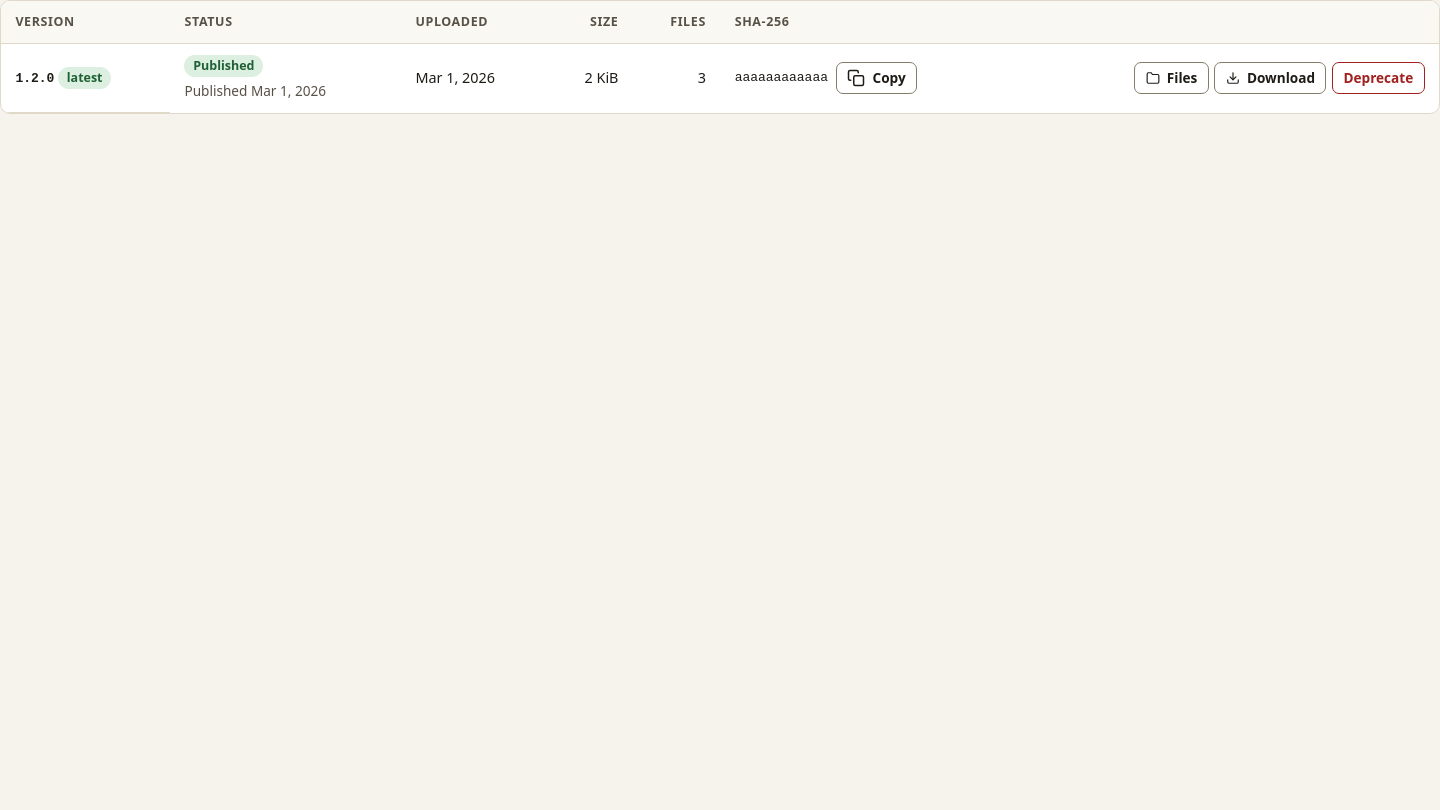
VersionsTab: deprecating › handles the 409 of the only published version without refreshing
Click the button named "Deprecate version 1.2.0": coordinates (1378, 78) left=1332, top=62, right=1425, bottom=94
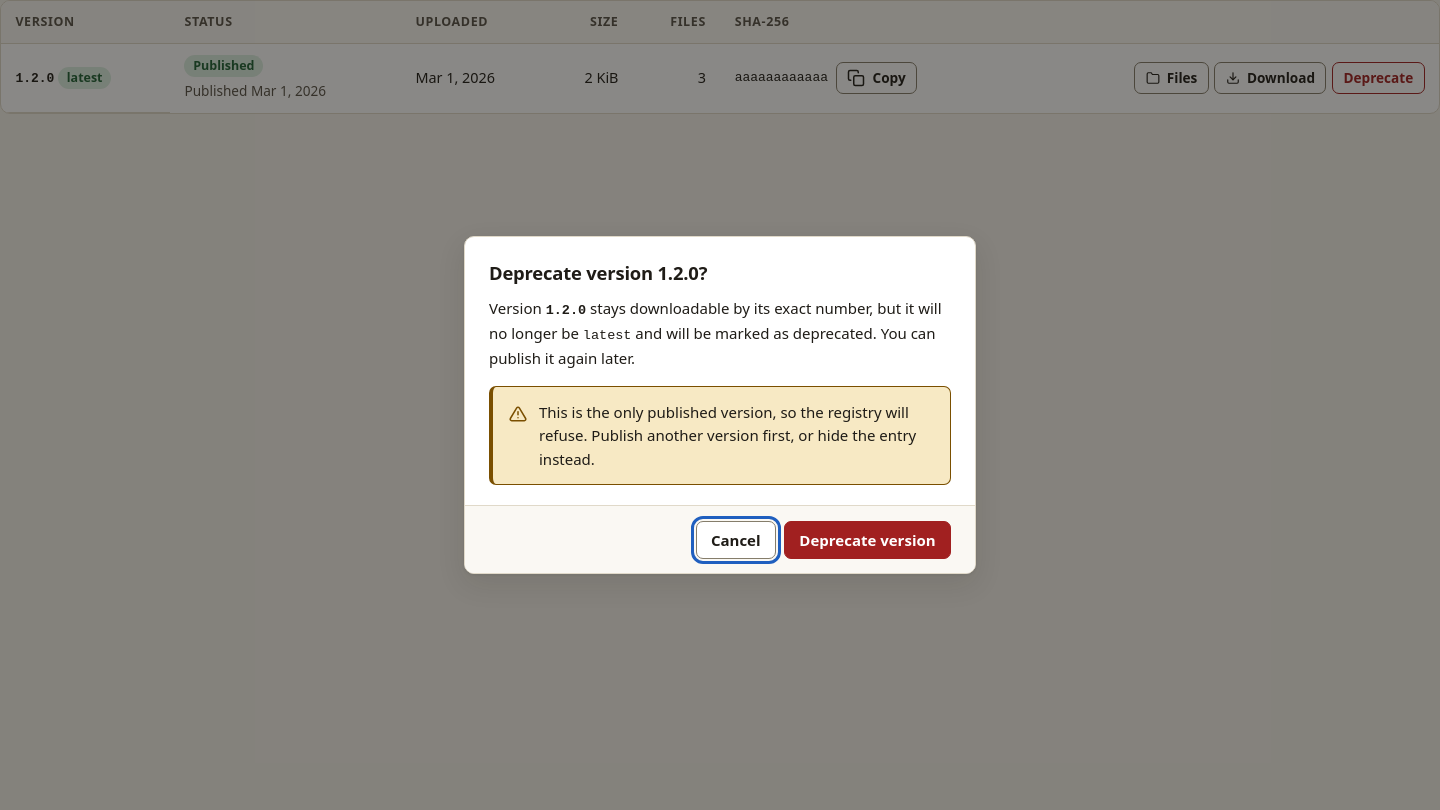
Click the button "Deprecate version": coordinates (868, 540) left=784, top=521, right=951, bottom=559
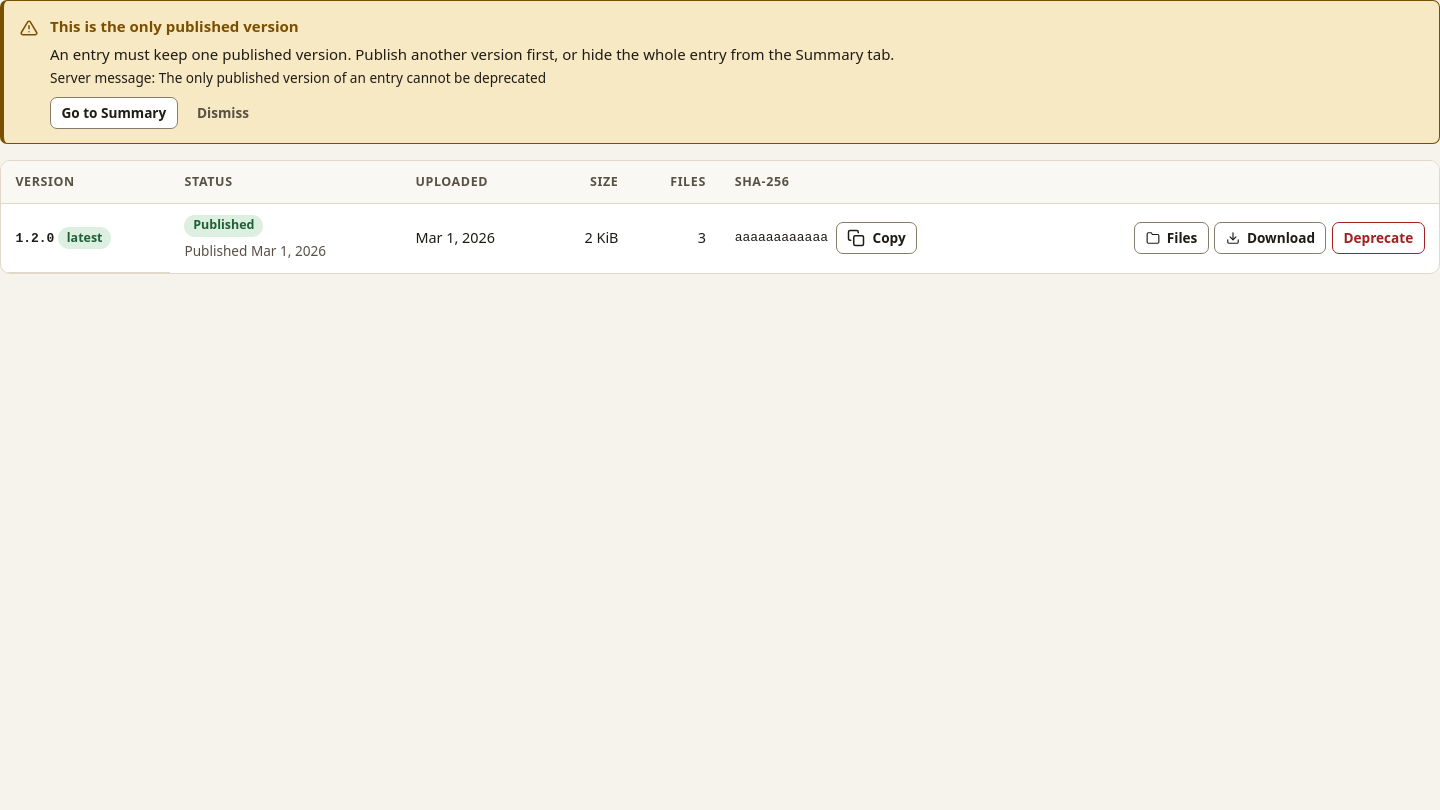
Expected: the text "This is the only published version" is shown, left=50, top=16, right=299, bottom=36
Expected: the text "This is the only published version" shows "Publish another version first, or hide the whole entry", left=50, top=44, right=894, bottom=64
Expected: the text "This is the only published version" shows "The only published version of an entry cannot be deprecated", left=50, top=68, right=546, bottom=87
Click the button "Go to Summary": coordinates (114, 113) left=50, top=97, right=178, bottom=129
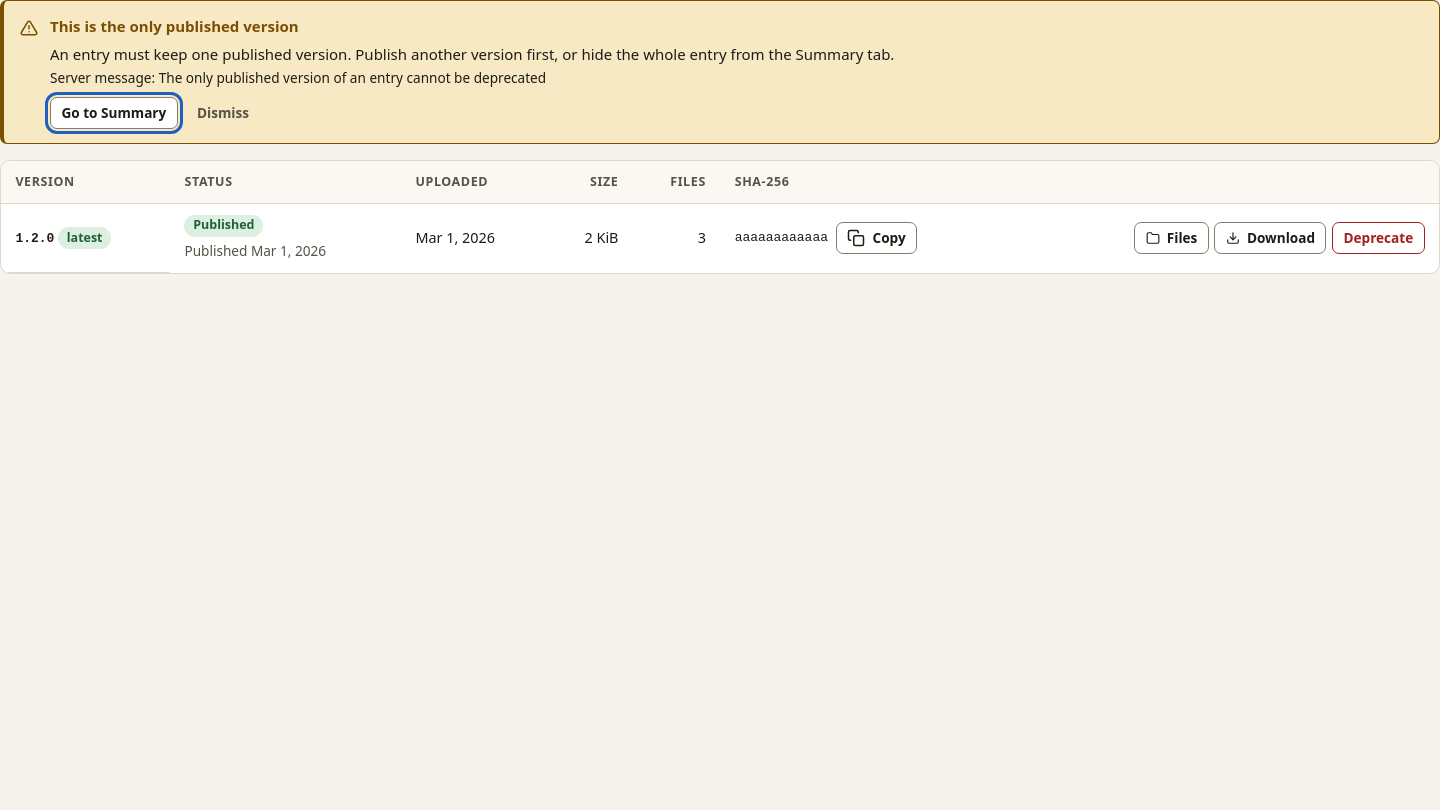
Click the button "Dismiss": coordinates (223, 113) left=186, top=97, right=260, bottom=129
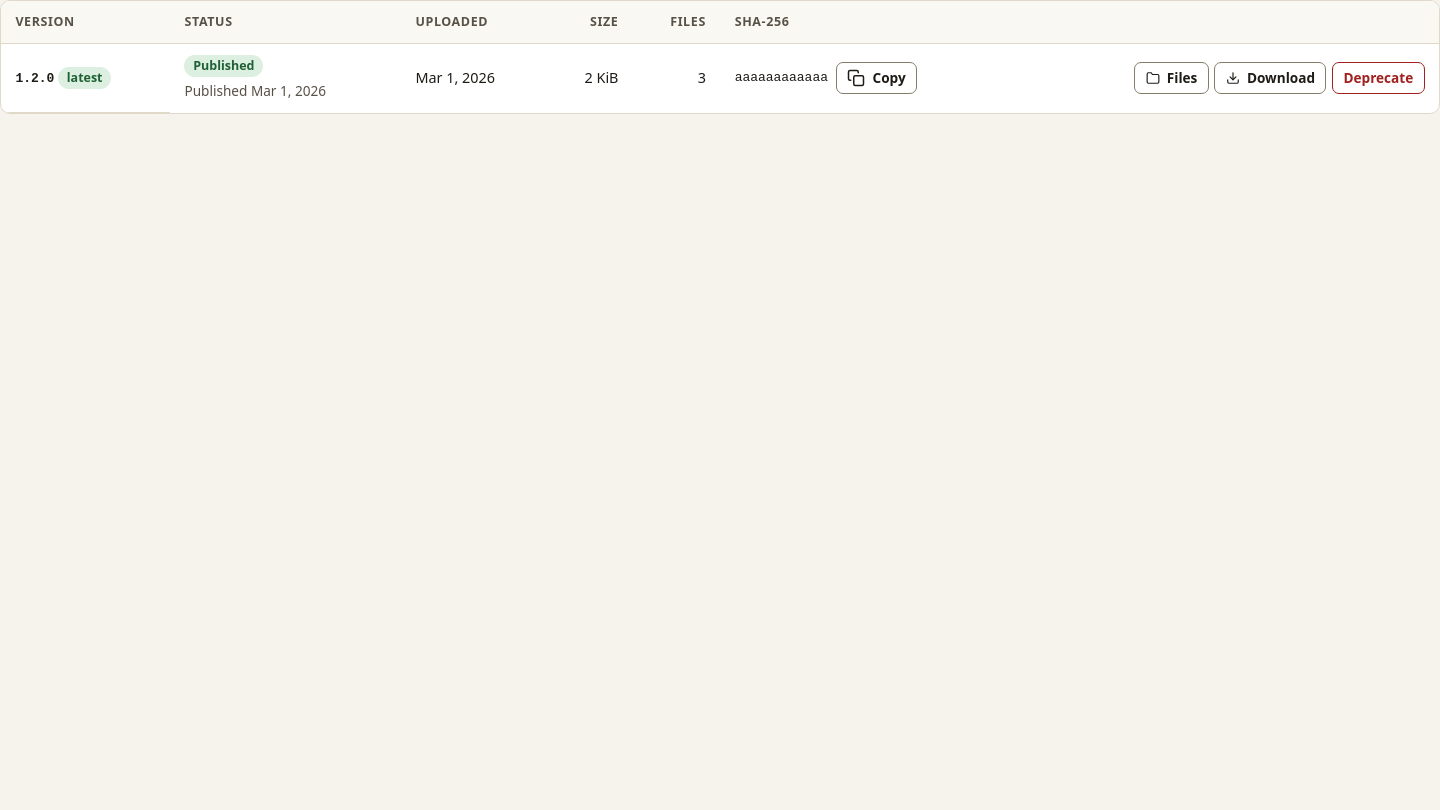
Expected: the text "This is the only published version" is gone
